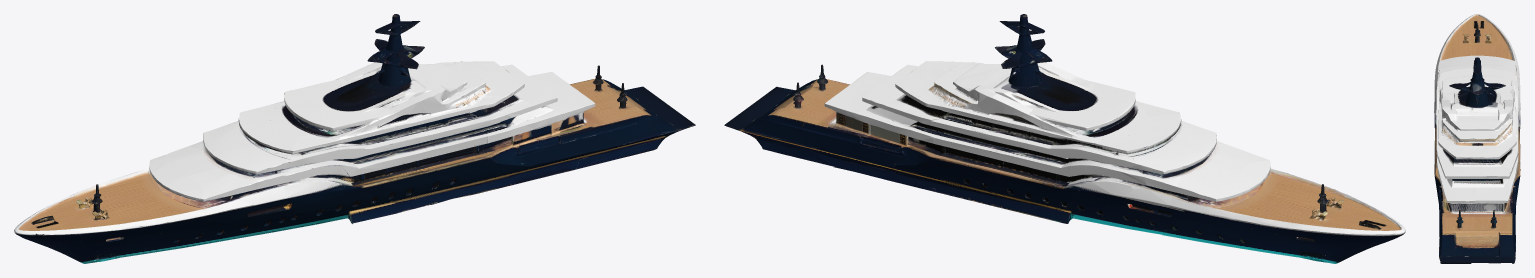
File: ocean-superyacht-mesh.glb
3 views of the same model, side by side, from view 1: azimuth 30°, elevation 25°; view 2: azimuth 150°, elevation 25°; view 3: azimuth 270°, elevation 25° (orthographic). The views are drawn at different scales.
Parts seen in each view (by area): view 1: Mesh_0; view 2: Mesh_0; view 3: Mesh_0.
Part boxes in pixels (x1,y1,x2,y2): Mesh_0: (14, 14, 695, 263); Mesh_0: (724, 14, 1405, 263); Mesh_0: (1434, 14, 1520, 263).
Size of the model in its own units: 1.9 by 0.4809 by 0.307.
Materials: 1 (1 with a texture image).
